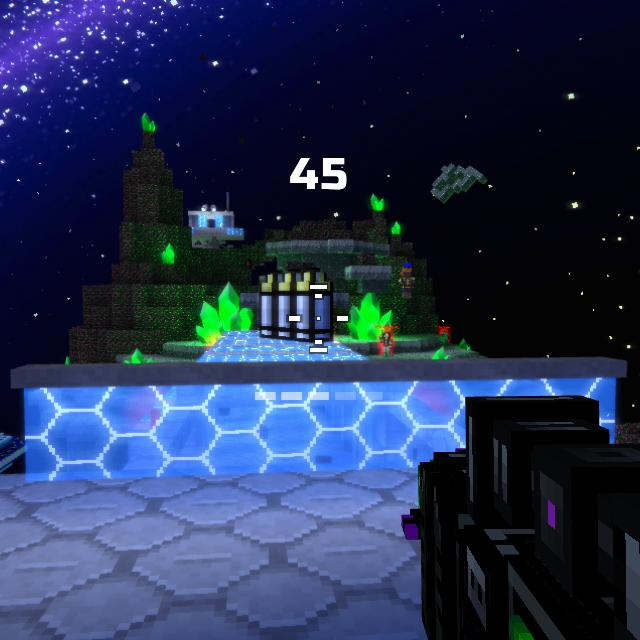Enemy: (379, 331, 393, 357), (442, 330, 450, 339)
